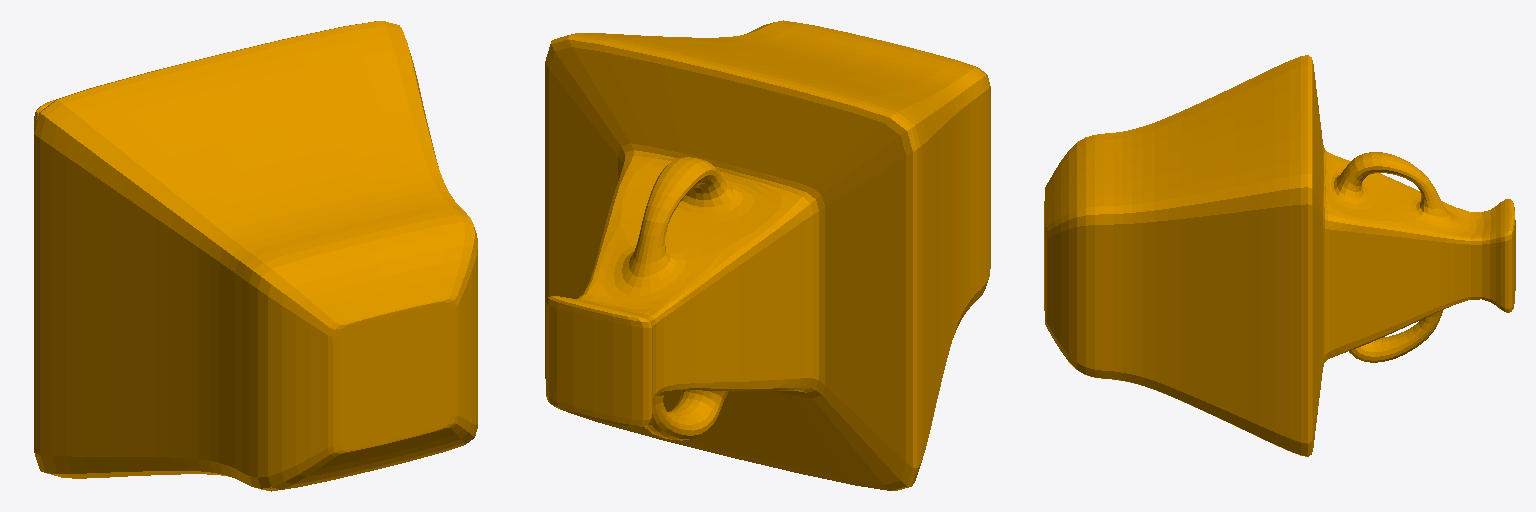
URDF robot description (84):
<?xml version="1.0" ?>
<robot name="84">
  <link name="body">
    <visual>
      <geometry>
        <mesh filename="../shapes/84.obj"/>
      </geometry>
    </visual>
    <collision>
      <geometry>
        <mesh filename="../shapes/84.obj"/>
      </geometry>
    </collision>
  </link>
</robot>

--- What the picture shows (computed from the rendered views, not written in the file) ---
Views: 3 orthographic renders of the robot side by side, from view 1: azimuth 30°, elevation 25°; view 2: azimuth 150°, elevation 25°; view 3: azimuth 270°, elevation 25°.
Model 84 with 1 links and 0 joints (none), rooted at body, posed every joint at zero.
Links seen in each view (by area): view 1: body; view 2: body; view 3: body.
Boxes of the visible links, x1,y1,x2,y2 form: body: (34,21,477,491); body: (545,20,990,490); body: (1044,55,1515,456).
Size in the robot's own frame: 8.2 by 12 by 8.18 metres.
Meshes: 1 distinct files referenced, 1 mesh visuals loaded (1 OBJ).